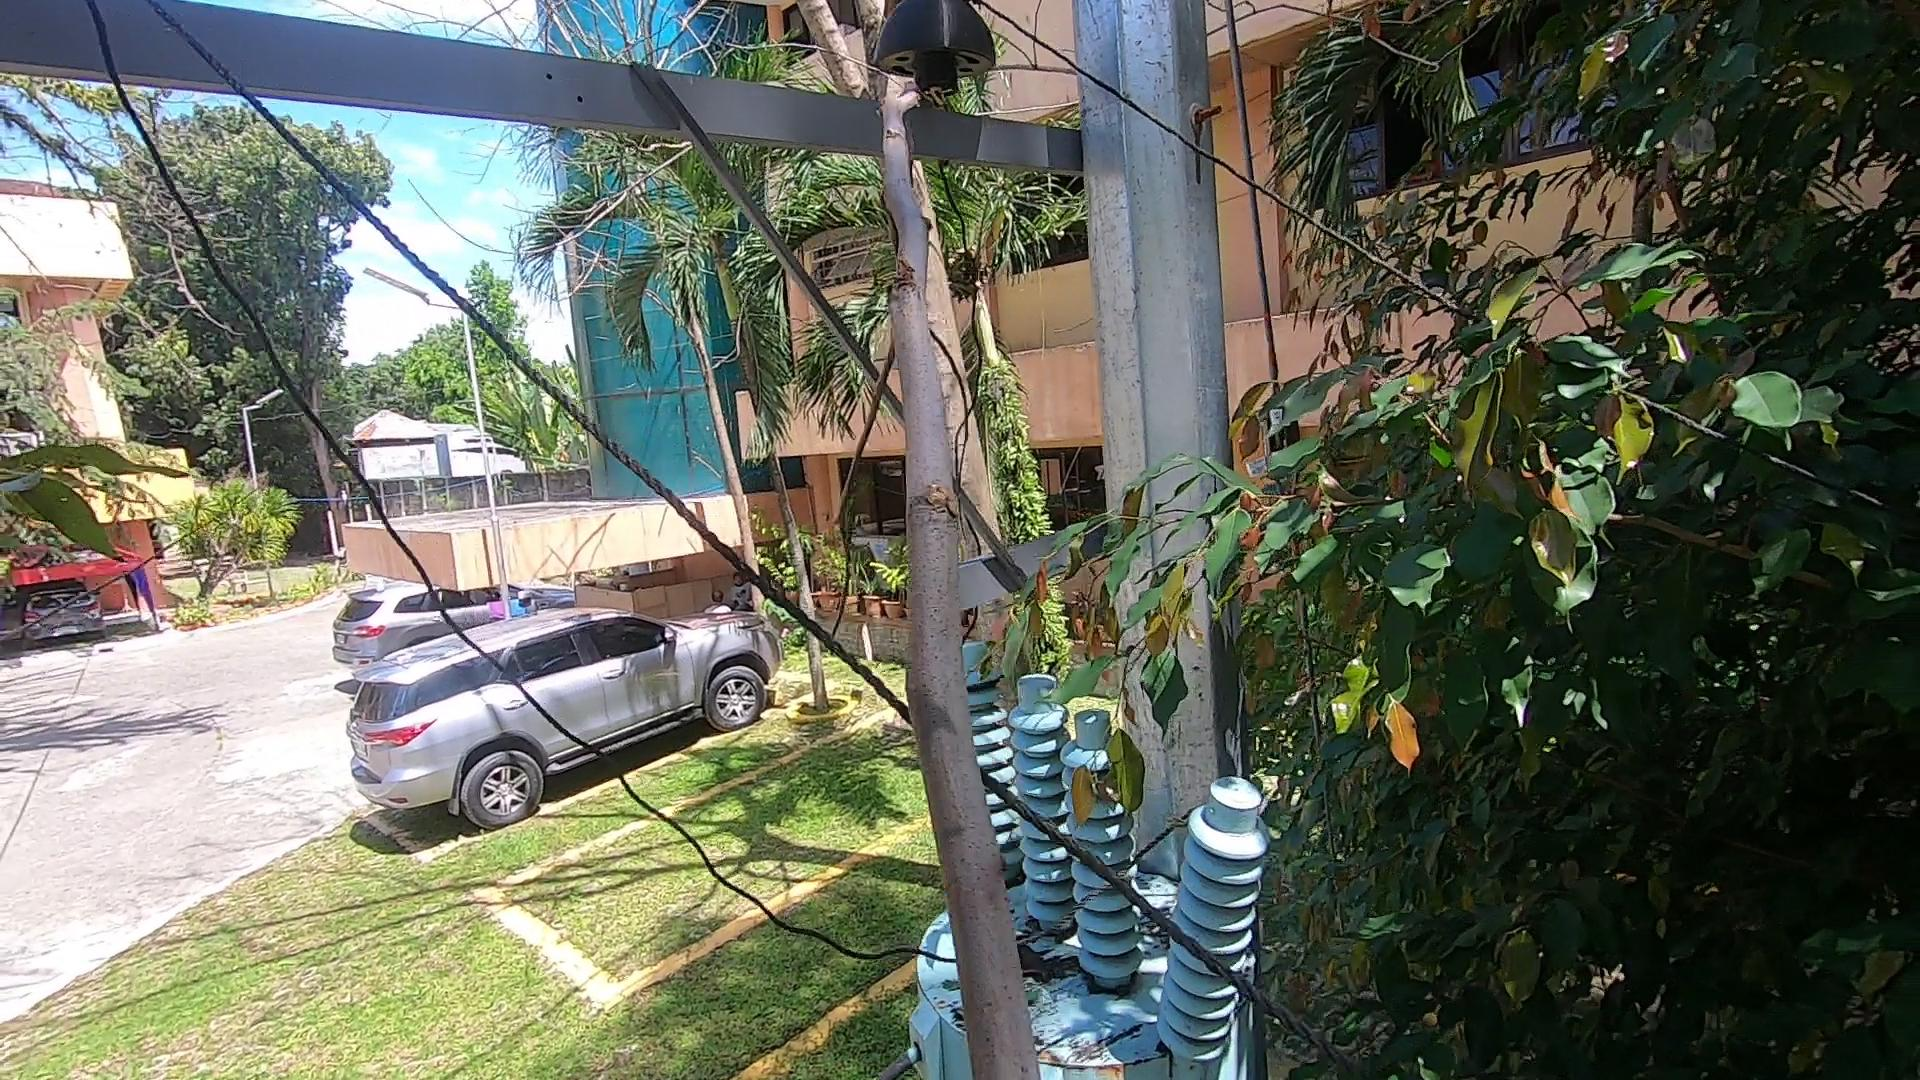branch with leaves: (985, 465, 1228, 833)
leaf: (1014, 936, 1108, 996)
tree branch: (845, 53, 1062, 1080)
